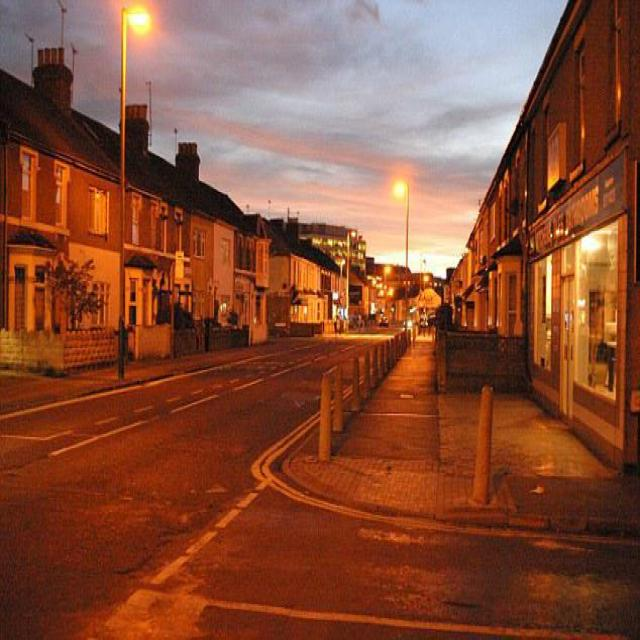other: (119, 1, 158, 48), (386, 172, 411, 211), (576, 236, 610, 258)
